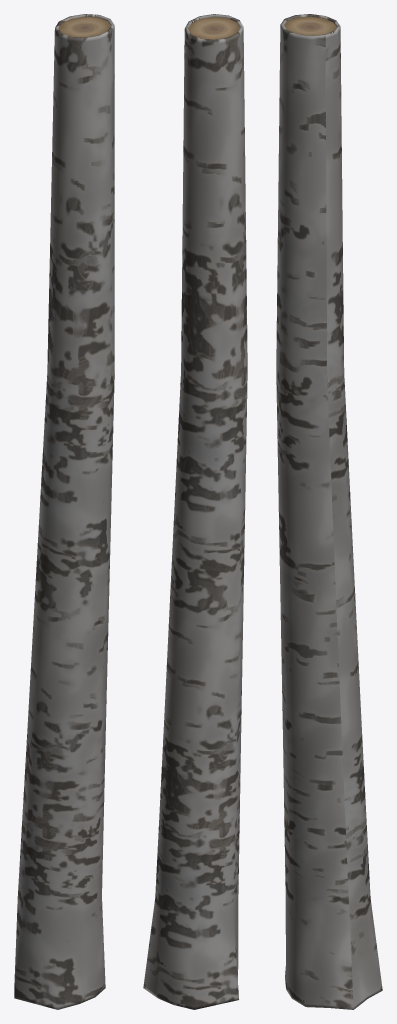
The model's file is tree03_log.fbx.
3 renders of one model, left to right at view 1: azimuth 90°, elevation 25°; view 2: azimuth 150°, elevation 25°; view 3: azimuth 330°, elevation 25°, orthographic. The views are drawn at different scales.
Visible parts, largest first — view 1: Cylinder.006; view 2: Cylinder.006; view 3: Cylinder.006.
Part boxes in pixels (left/top/right/bottom): Cylinder.006: left=14, top=14, right=114, bottom=1009; Cylinder.006: left=143, top=14, right=247, bottom=1009; Cylinder.006: left=276, top=14, right=382, bottom=1009.
Size of the model in its own units: 27.66 by 300 by 28.29.
